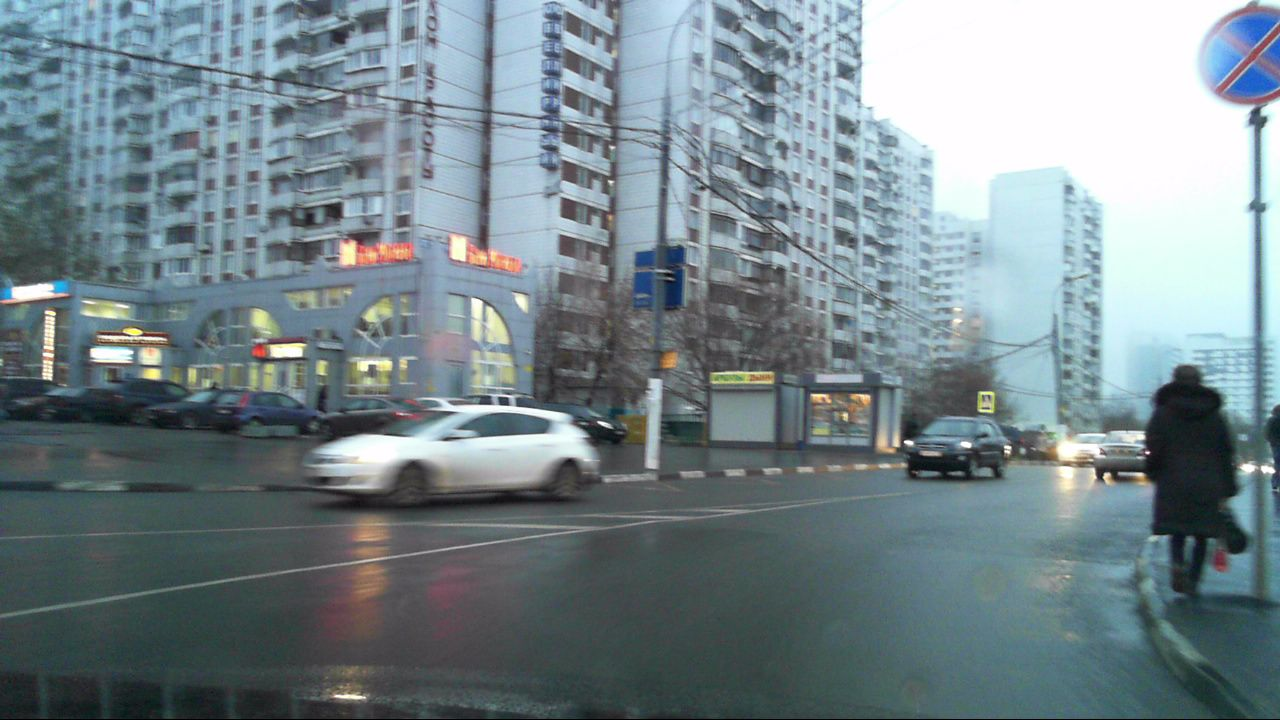No Parking: (1195, 2, 1279, 109)
